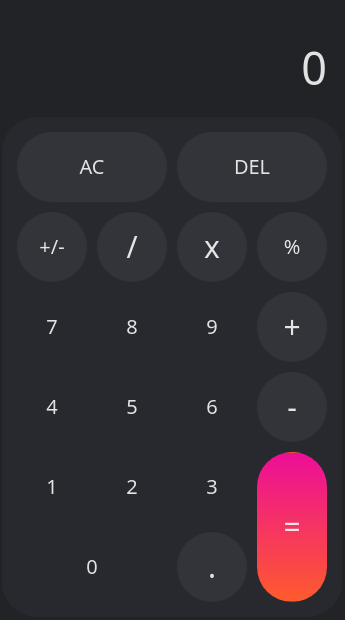
Test: Calculator operations › should handle division by zero
Click the button "8": (132, 326) x1=97 y1=292 x2=167 y2=362
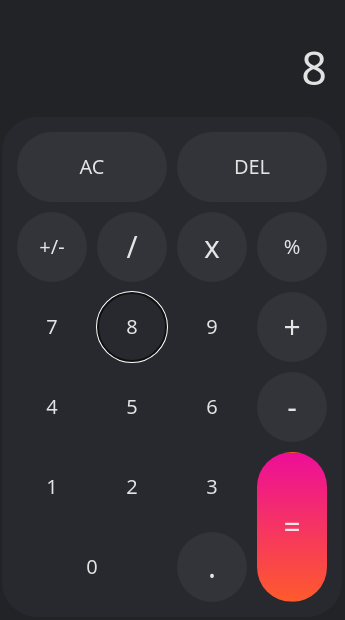
Click the button "/": (132, 246) x1=97 y1=212 x2=167 y2=282
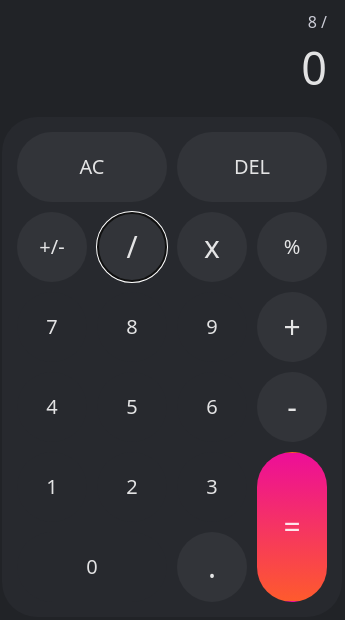
Click the button "0": (92, 566) x1=17 y1=532 x2=167 y2=602
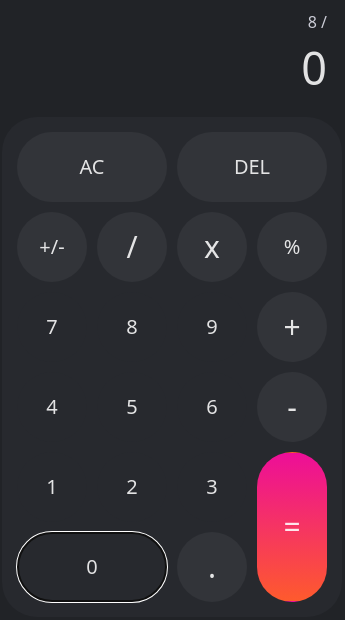
Click the button "=": (292, 526) x1=257 y1=452 x2=327 y2=602
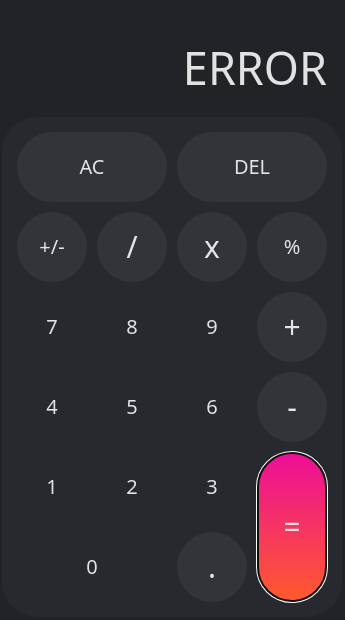
Check: the text "ERROR" is shown, box x1=183 y1=34 x2=327 y2=102
